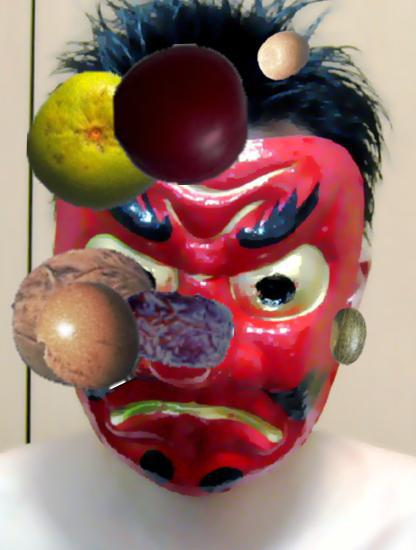Cherry: (110, 44, 251, 185)
Dates: (103, 262, 235, 394)
Granadilla: (10, 250, 155, 395)
Kumquats: (256, 27, 313, 84)
Melon: (319, 308, 377, 366)
Pomelo: (27, 68, 173, 214)
Walnut: (10, 243, 158, 391)
